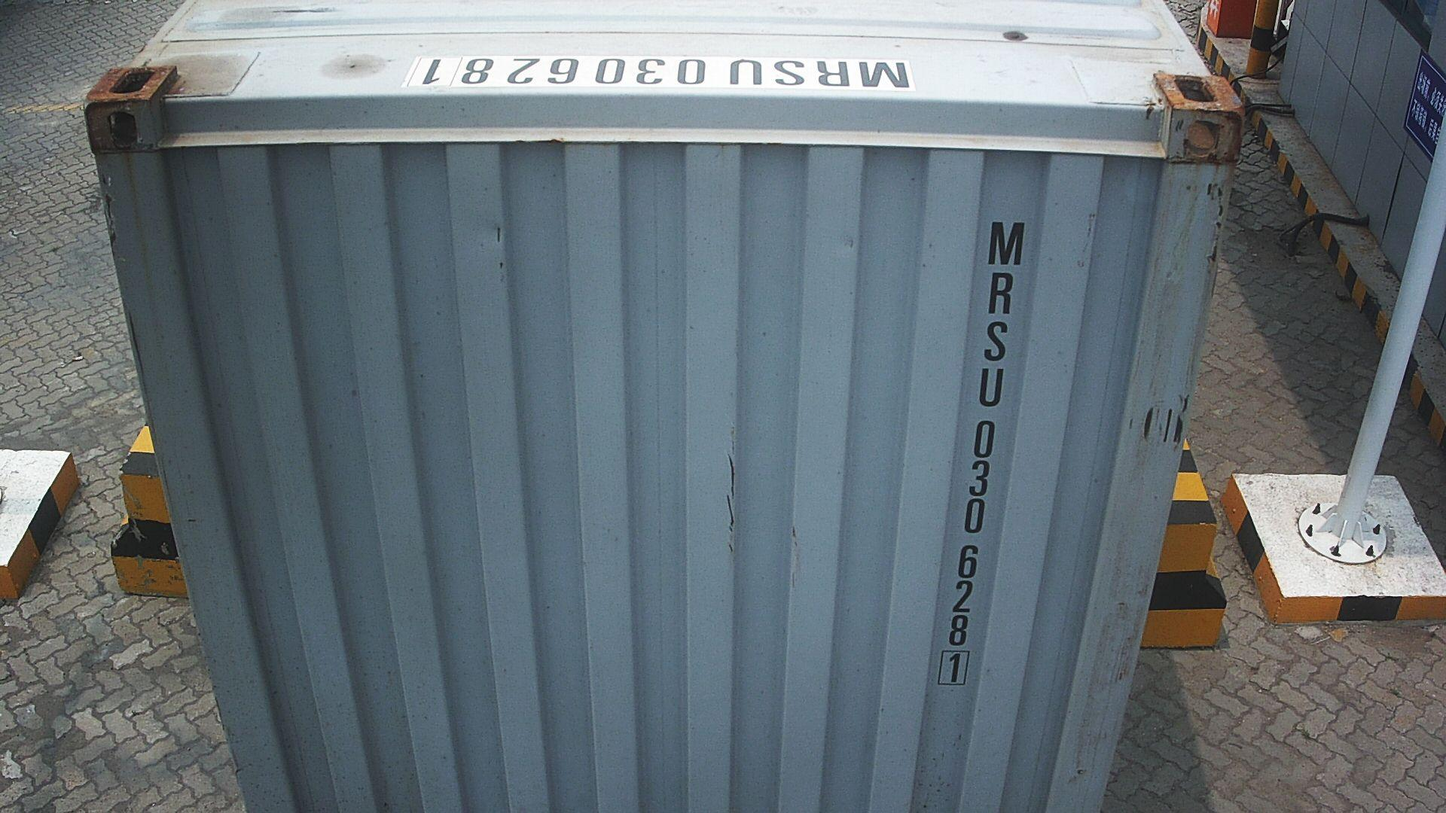container-numbers: (934, 211, 1030, 692), (402, 53, 917, 92)
